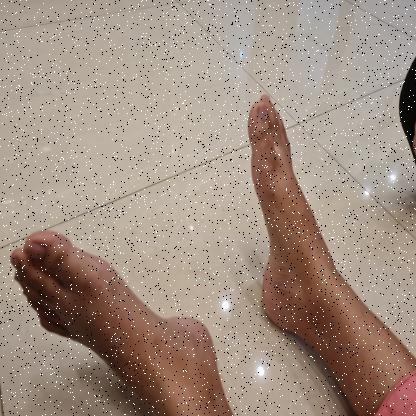leg: (242, 86, 416, 414), (6, 222, 235, 416)
